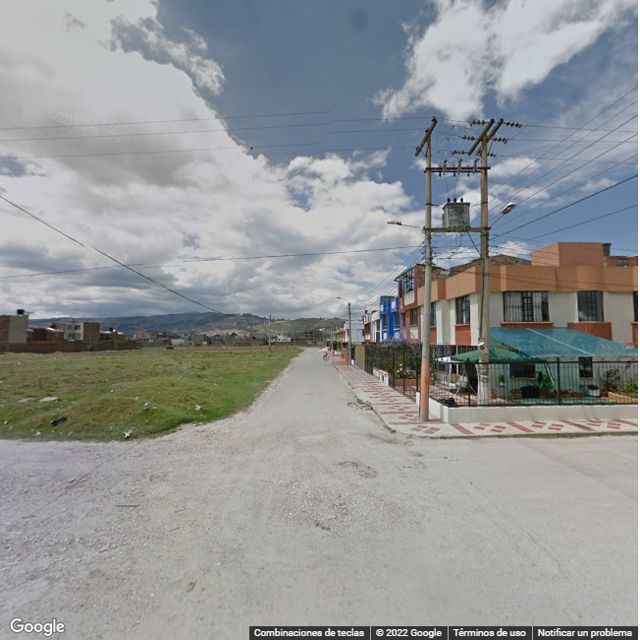D00: (469, 476, 569, 575), (451, 478, 540, 578)
D40: (325, 454, 390, 481)
